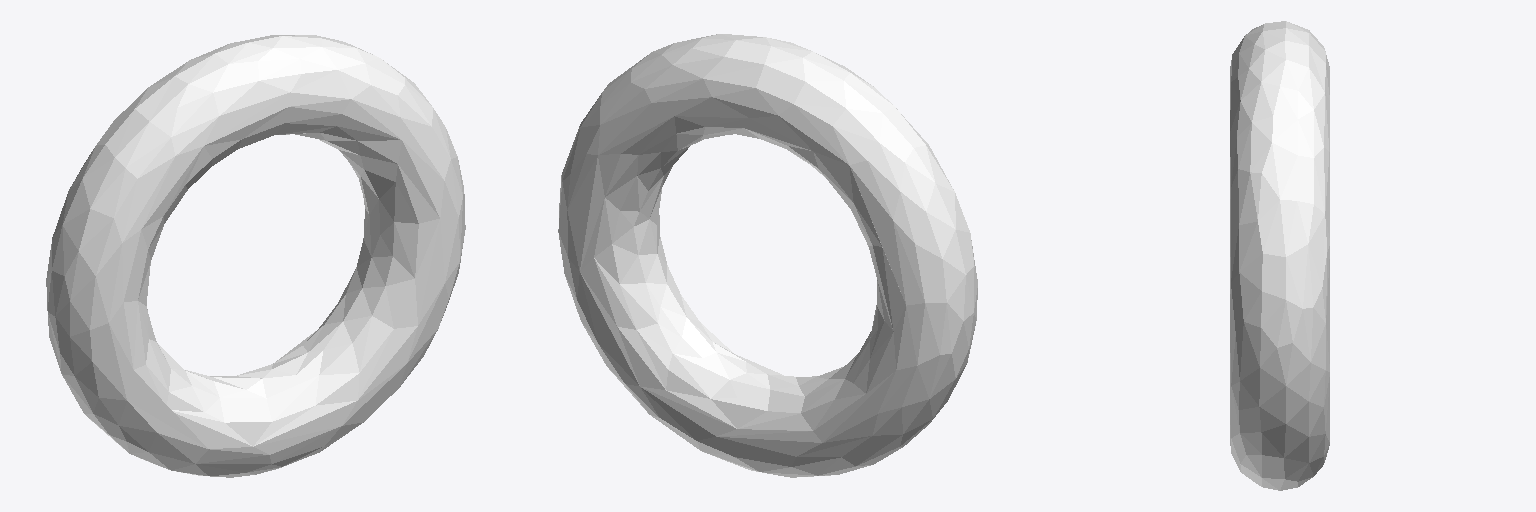
Rendered from Dichtung_Buchsendeckel_klein.obj.
3 renders of one model, left to right at view 1: azimuth 30°, elevation 25°; view 2: azimuth 150°, elevation 25°; view 3: azimuth 270°, elevation 25°, orthographic.
Parts seen in each view (by area): view 1: Pneumatikspanner.038_Opaque(210,210,255); view 2: Pneumatikspanner.038_Opaque(210,210,255); view 3: Pneumatikspanner.038_Opaque(210,210,255).
Part boxes in pixels (left/top/right/bottom): Pneumatikspanner.038_Opaque(210,210,255): left=46, top=35, right=465, bottom=477; Pneumatikspanner.038_Opaque(210,210,255): left=558, top=34, right=977, bottom=477; Pneumatikspanner.038_Opaque(210,210,255): left=1230, top=21, right=1329, bottom=490.
Bounding box in the file's own units: 0.007 × 0.007 × 0.0015.